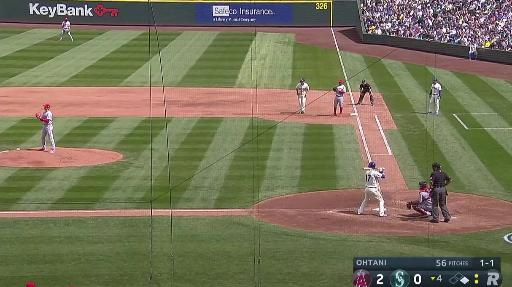pitcher: (35, 103, 58, 153)
